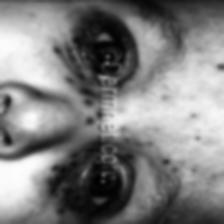Toxin: (123, 111, 205, 157), (46, 144, 88, 216), (54, 25, 86, 100), (212, 61, 224, 78)
